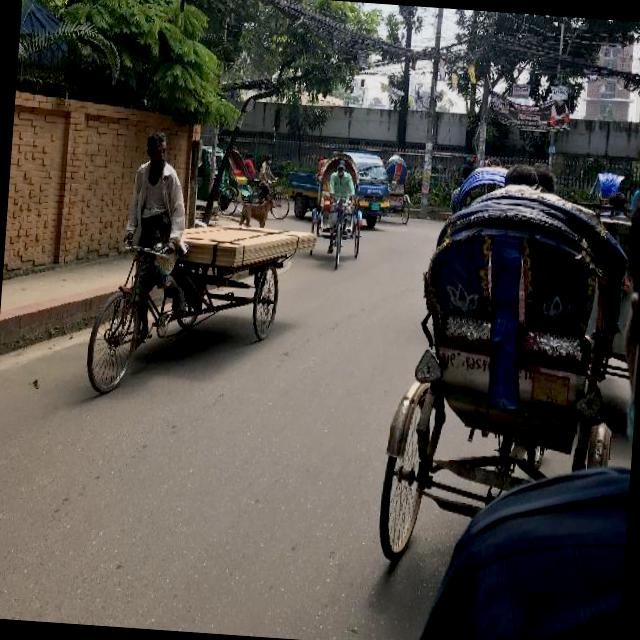motorcycle: (376, 190, 628, 576), (310, 154, 366, 272), (220, 146, 292, 217), (450, 164, 505, 223), (192, 142, 232, 212), (592, 164, 640, 220), (384, 152, 414, 220)
truck: (288, 146, 391, 227)
